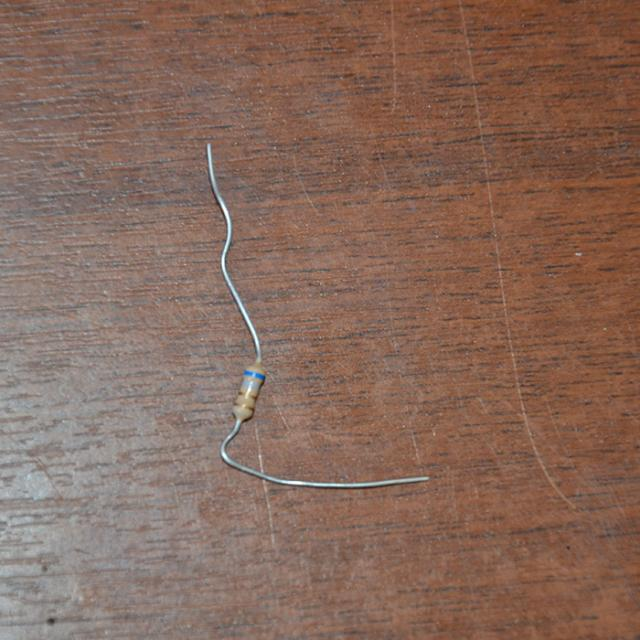blue: (244, 370, 263, 379)
gold: (232, 402, 253, 410), (238, 391, 256, 400)
grey: (242, 381, 258, 389)
resistor: (218, 350, 272, 431)
